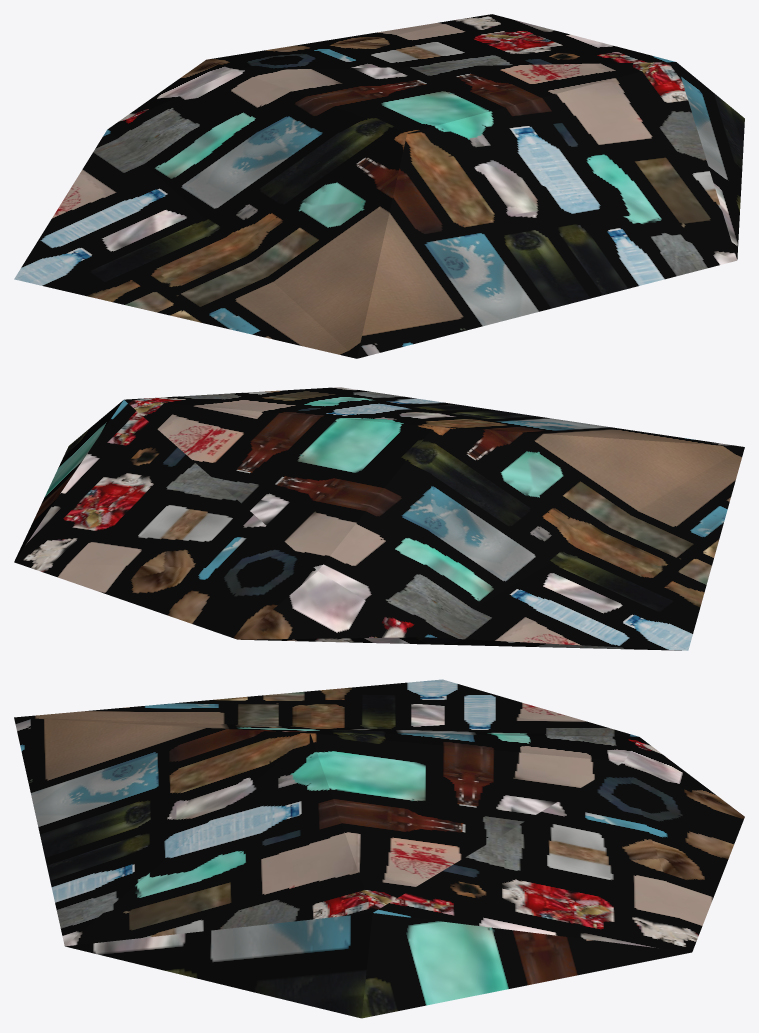
File: Urban_Trashpile1_Model.fbx
3 renders of one model, top to bottom at view 1: azimuth 30°, elevation 25°; view 2: azimuth 150°, elevation 25°; view 3: azimuth 270°, elevation 25°, orthographic. The views are drawn at different scales.
Parts seen in each view (by area): view 1: Urban_Trashpile1_Mesh; view 2: Urban_Trashpile1_Mesh; view 3: Urban_Trashpile1_Mesh.
Boxes of the visible parts, x1,y1,x2,y2 form: Urban_Trashpile1_Mesh: (14,14,744,358); Urban_Trashpile1_Mesh: (14,387,744,650); Urban_Trashpile1_Mesh: (14,679,744,1018).
Bounding box in the file's own units: 0.6047 × 0.0922 × 0.5191.
